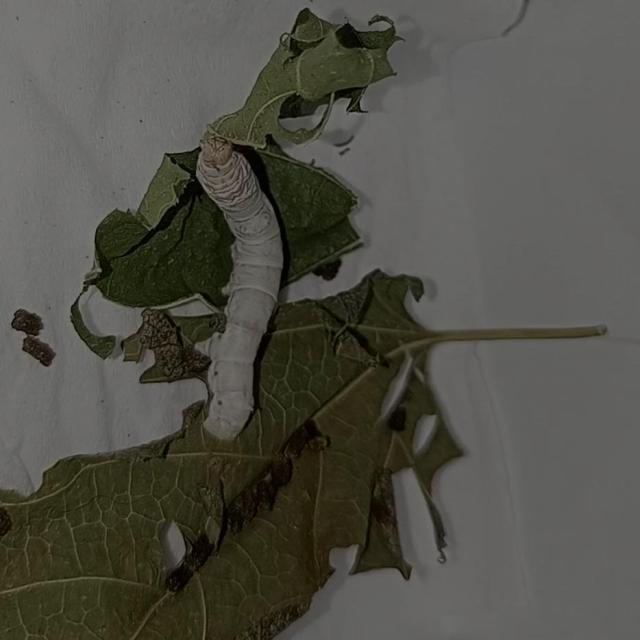Healthy: (146, 110, 314, 461)
